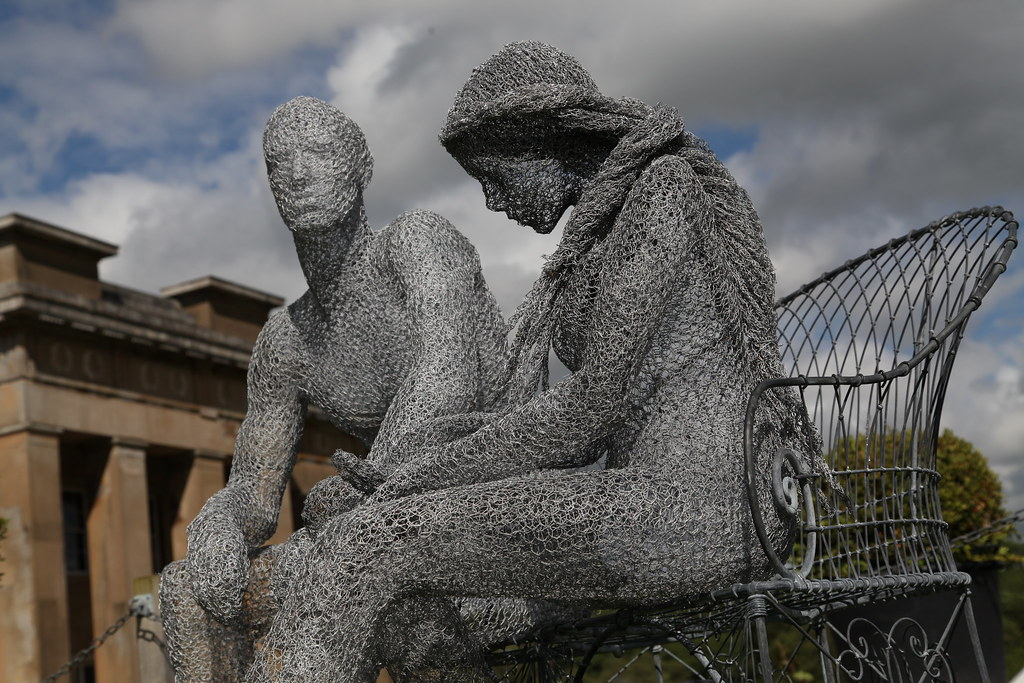person-like: (254, 35, 831, 683), (140, 94, 538, 683)
